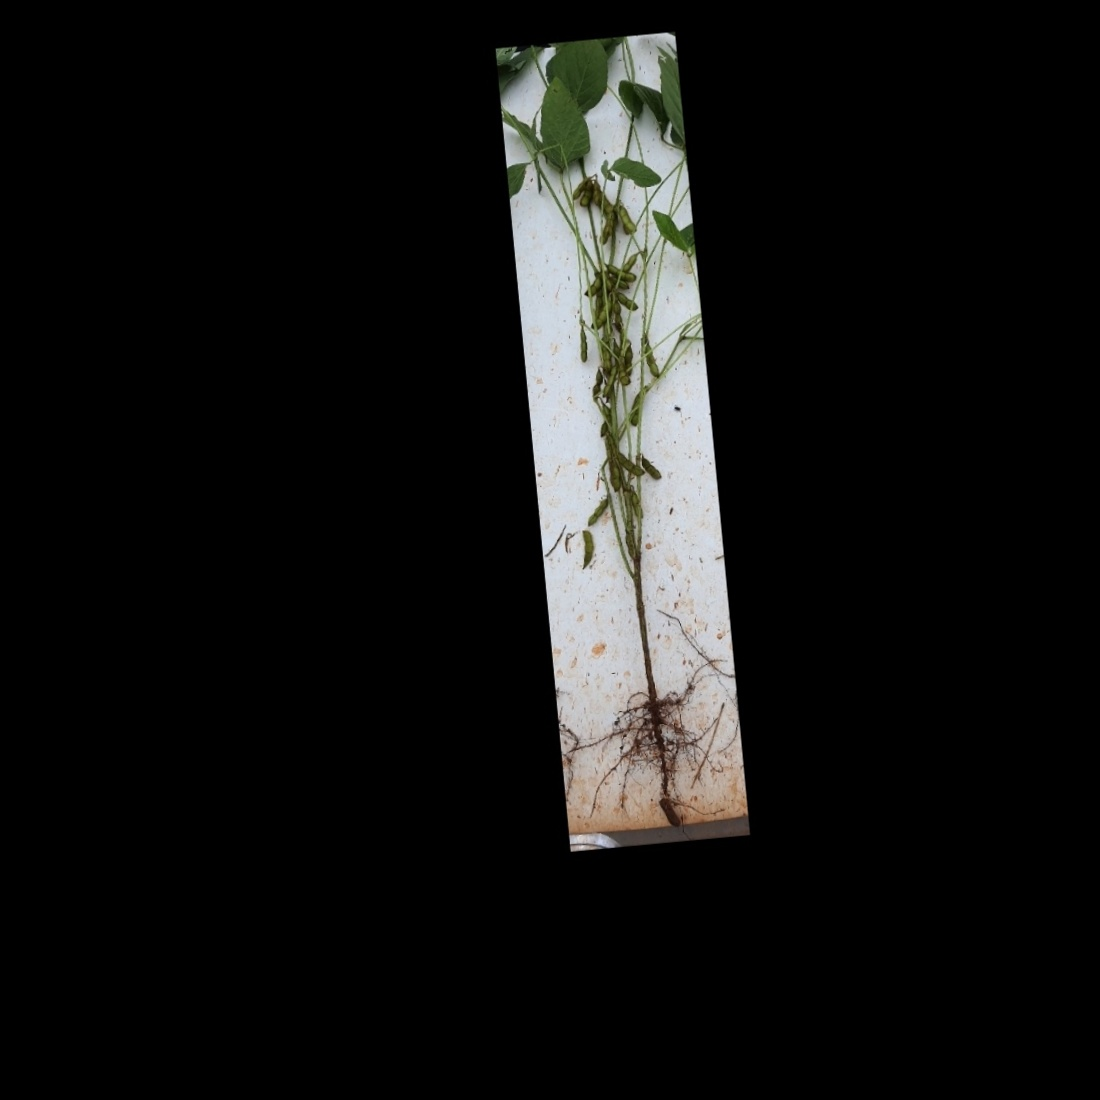pod: (638, 329, 665, 383), (596, 359, 625, 403), (574, 527, 600, 571), (634, 451, 666, 484), (573, 326, 597, 367), (582, 494, 611, 527), (615, 197, 639, 239), (612, 451, 645, 480), (602, 261, 640, 286), (611, 286, 642, 315), (575, 176, 600, 211)
soy: (498, 43, 736, 771)
